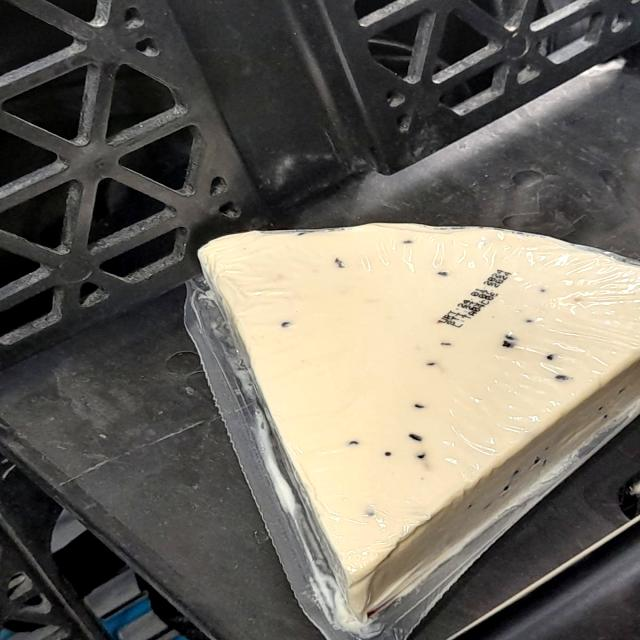cheese: (202, 217, 640, 640)
